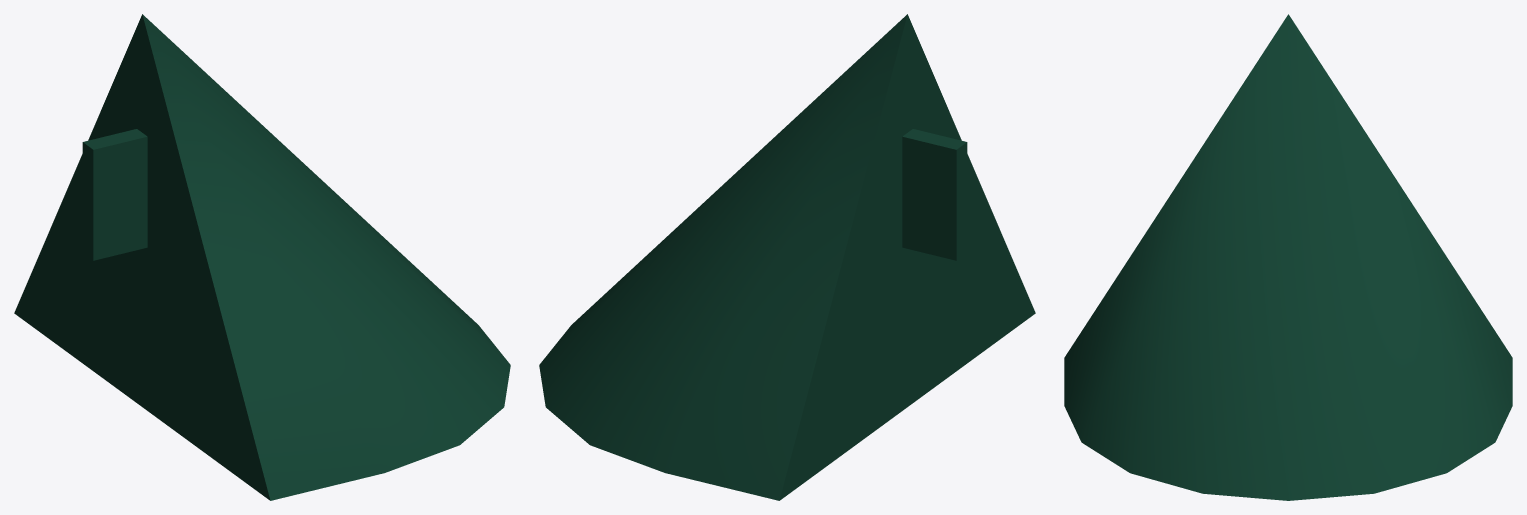
The model's file is Campus.glb.
3 renders of one model, left to right at view 1: azimuth 30°, elevation 25°; view 2: azimuth 150°, elevation 25°; view 3: azimuth 270°, elevation 25°, orthographic. The views are drawn at different scales.
Visible parts, largest first — view 1: Cylinder; view 2: Cylinder; view 3: Cylinder.
Boxes of the visible parts, bbox=[...] form: Cylinder: bbox=[14, 14, 510, 500]; Cylinder: bbox=[539, 14, 1035, 500]; Cylinder: bbox=[1064, 14, 1512, 500].
Bounding box in the file's own units: 0.4574 × 0.44 × 0.52.
Materials: 2 (2 with a texture image).
